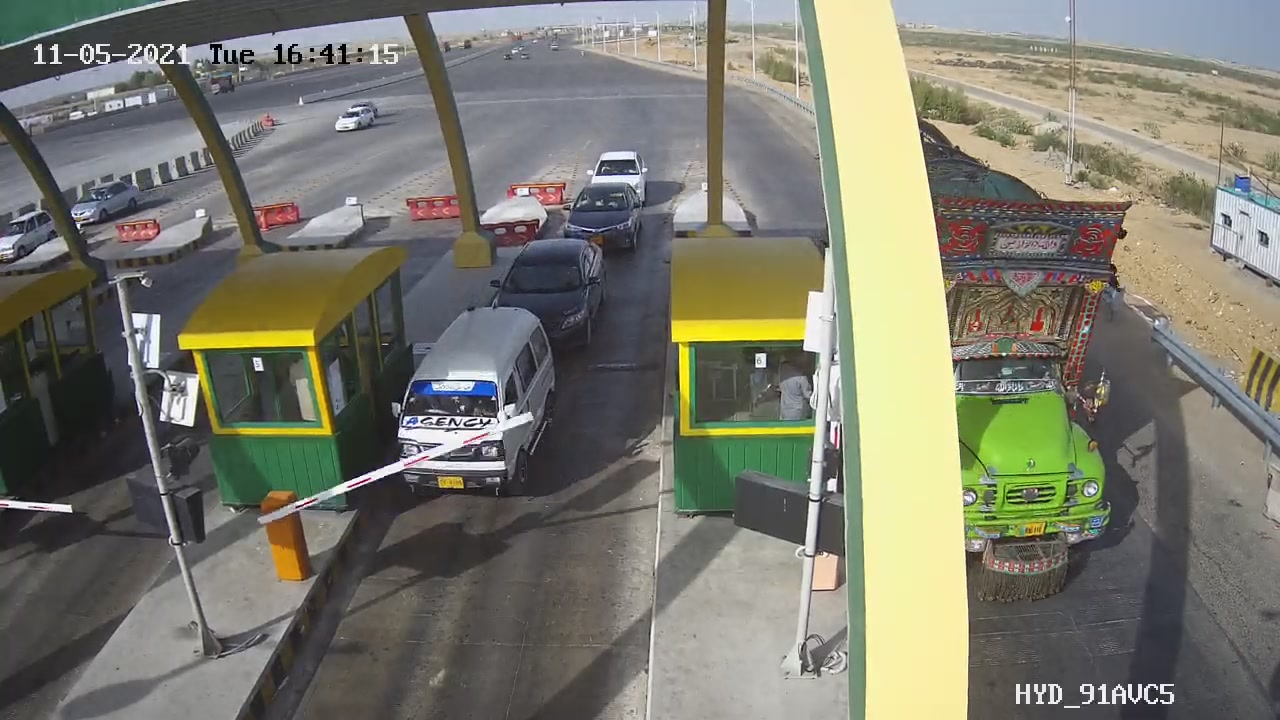F1: (380, 293, 585, 518)
